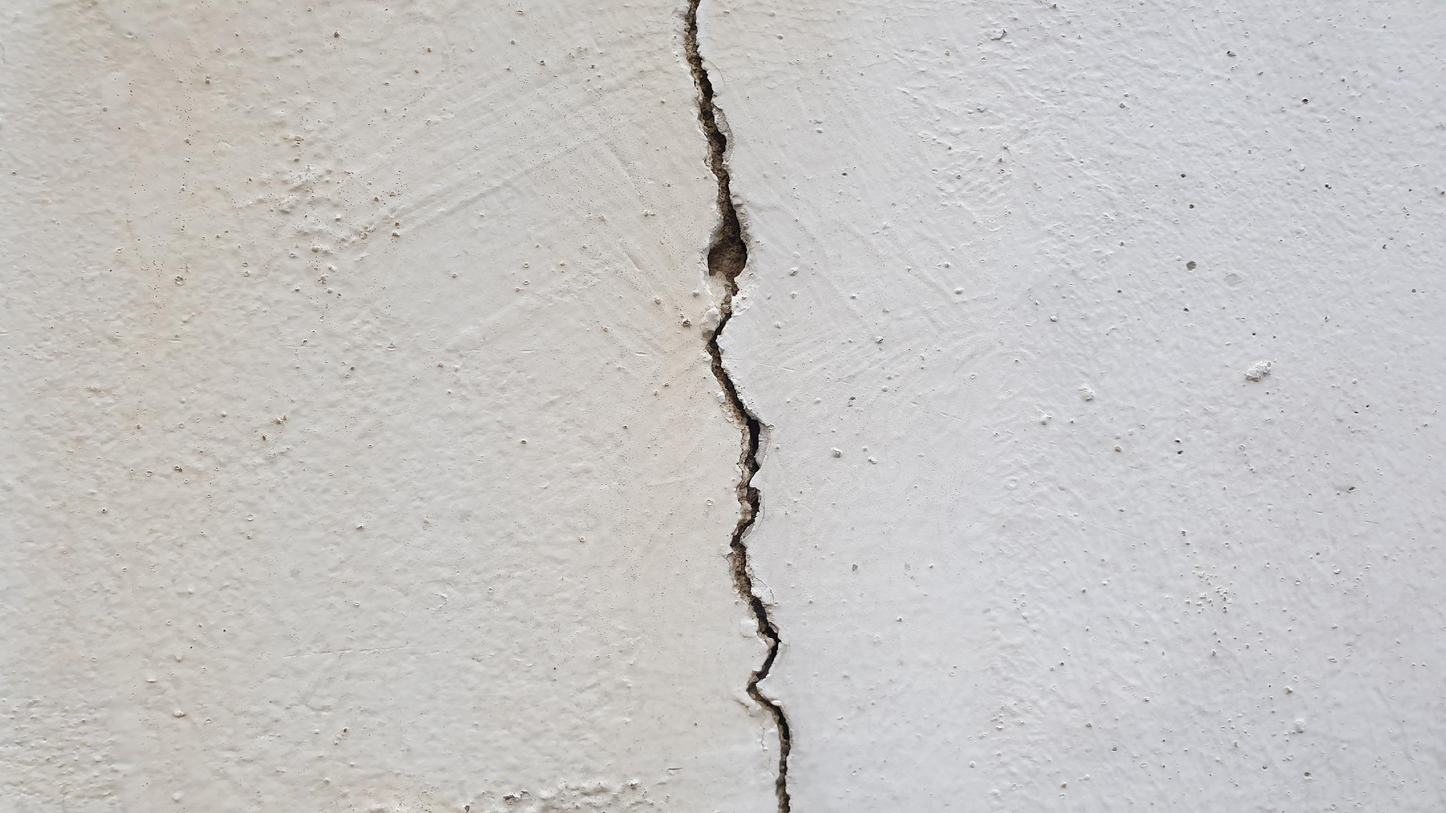crack: (684, 0, 795, 805)
